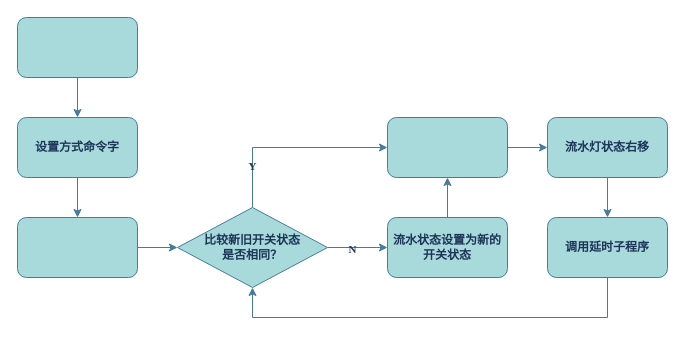
Image size: 685x343. Some labels were removed from this diagram. The centre of each missing label's shape, as x and y in pixels:
开始: point 77,47
点亮LED灯: point 447,147
获取开关初始状态: point 77,247
